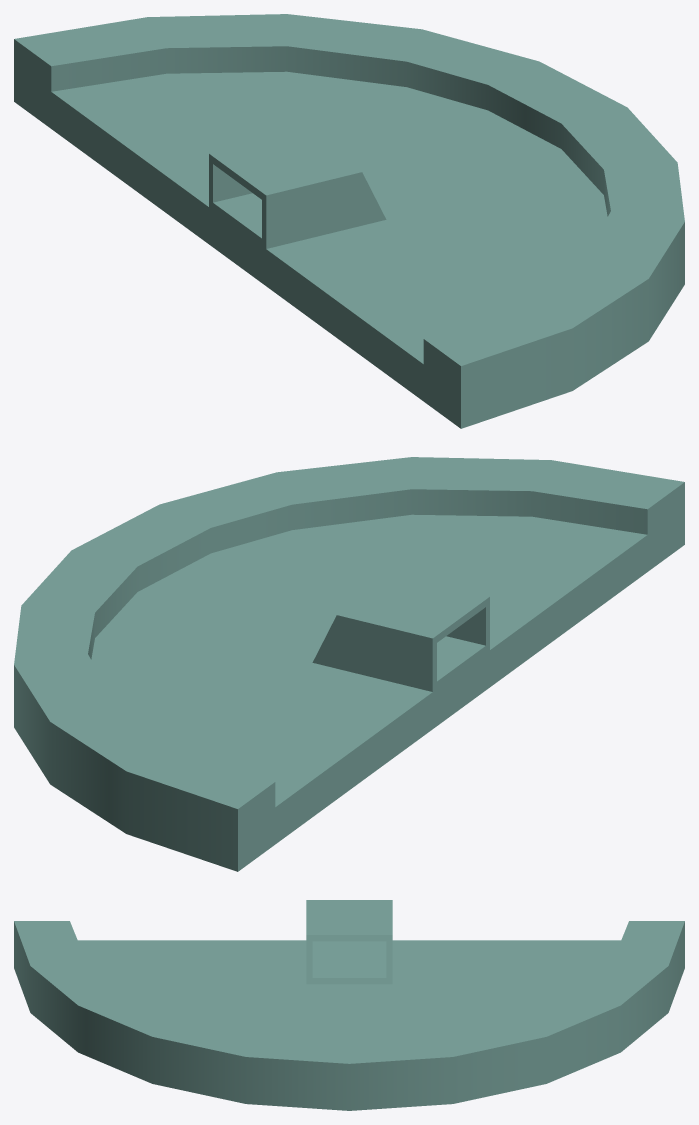
Rendered from Door_LP_P_2.fbx.
The picture shows the model from 3 angles, top to bottom: view 1: azimuth 30°, elevation 25°; view 2: azimuth 150°, elevation 25°; view 3: azimuth 270°, elevation 25°; orthographic projection. The views are drawn at different scales.
Visible parts, largest first — view 1: Door_R1; view 2: Door_R1; view 3: Door_R1.
Boxes of the visible parts, <box> form: Door_R1: <box>14,14,684,428</box>; Door_R1: <box>14,457,684,871</box>; Door_R1: <box>14,900,684,1110</box>.
Size of the model in its own units: 158 by 35.26 by 315.
